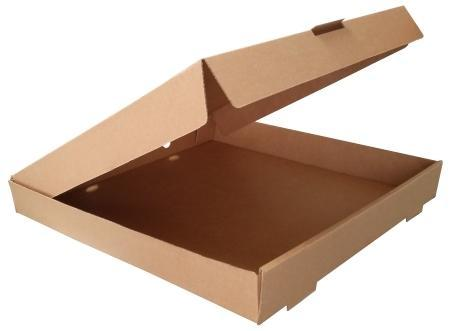Rec_Paper: (6, 7, 446, 328)
